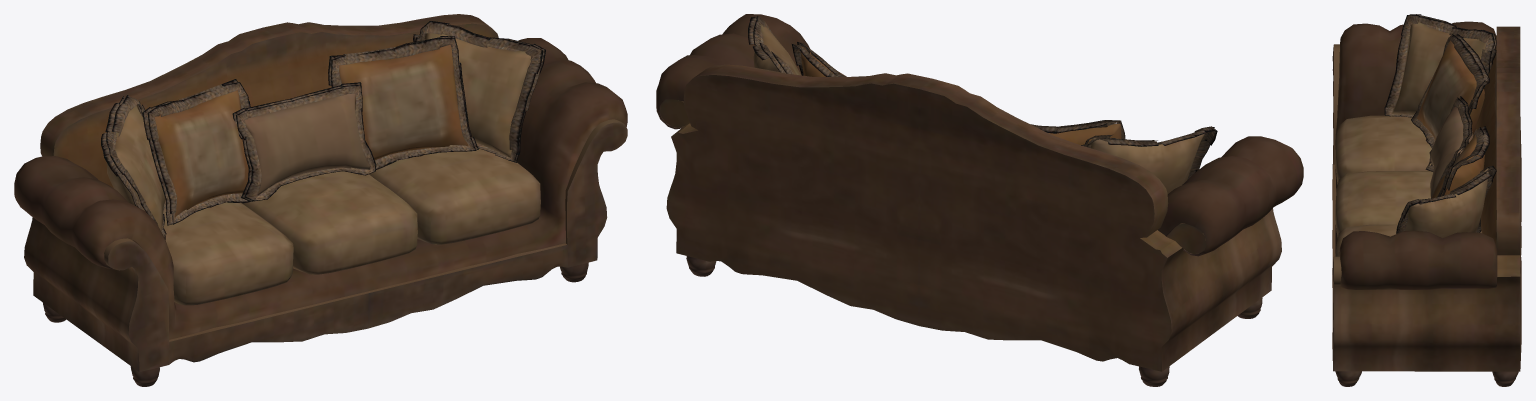
Rendered from sofa_03.gltf.
3 renders of one model, left to right at view 1: azimuth 30°, elevation 25°; view 2: azimuth 150°, elevation 25°; view 3: azimuth 270°, elevation 25°, orthographic. The views are drawn at different scales.
Parts seen in each view (by area): view 1: sofa_03; view 2: sofa_03; view 3: sofa_03.
Boxes of the visible parts, x1,y1,x2,y2 form: sofa_03: [14, 14, 627, 386]; sofa_03: [656, 14, 1303, 386]; sofa_03: [1332, 14, 1521, 386].
Size of the model in its own units: 2.73 by 1.12 by 0.9251.
2 materials, 2 textured.
